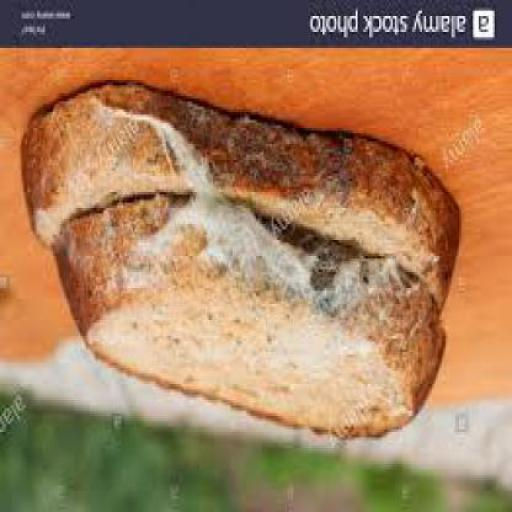biodegradable: (24, 82, 466, 320), (53, 197, 449, 443)
